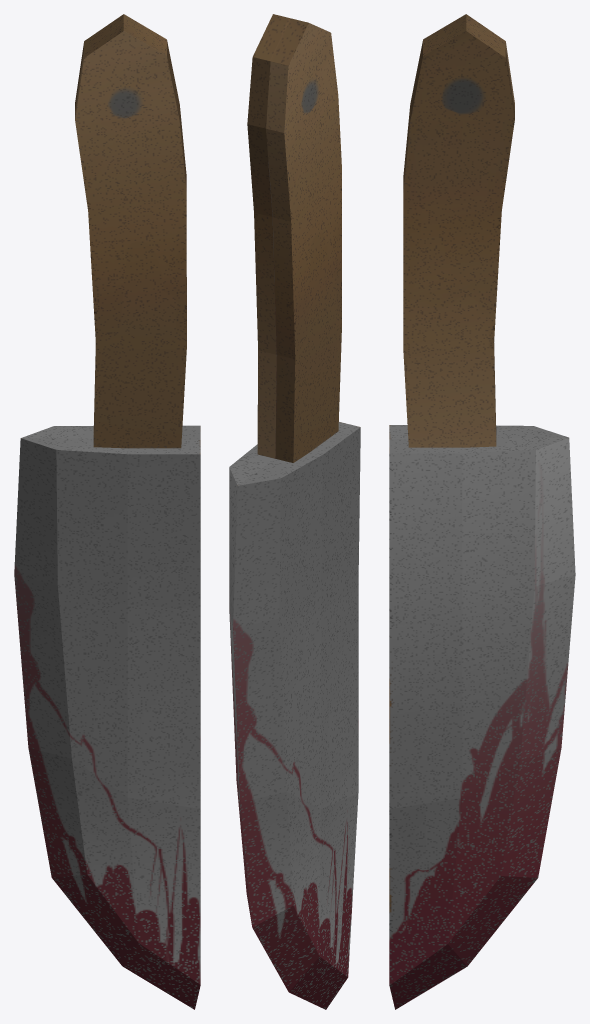
The model's file is Veitsi.fbx.
3 views of the same model, side by side, from view 1: azimuth 90°, elevation 25°; view 2: azimuth 150°, elevation 25°; view 3: azimuth 270°, elevation 25° (orthographic). The views are drawn at different scales.
Visible parts, largest first — view 1: Cube; view 2: Cube; view 3: Cube.
Boxes of the visible parts, bbox=[...] form: Cube: bbox=[14, 14, 200, 1009]; Cube: bbox=[229, 14, 360, 1009]; Cube: bbox=[389, 14, 575, 1009].
Size of the model in its own units: 93.87 by 1496 by 256.
1 material, 1 textured.
